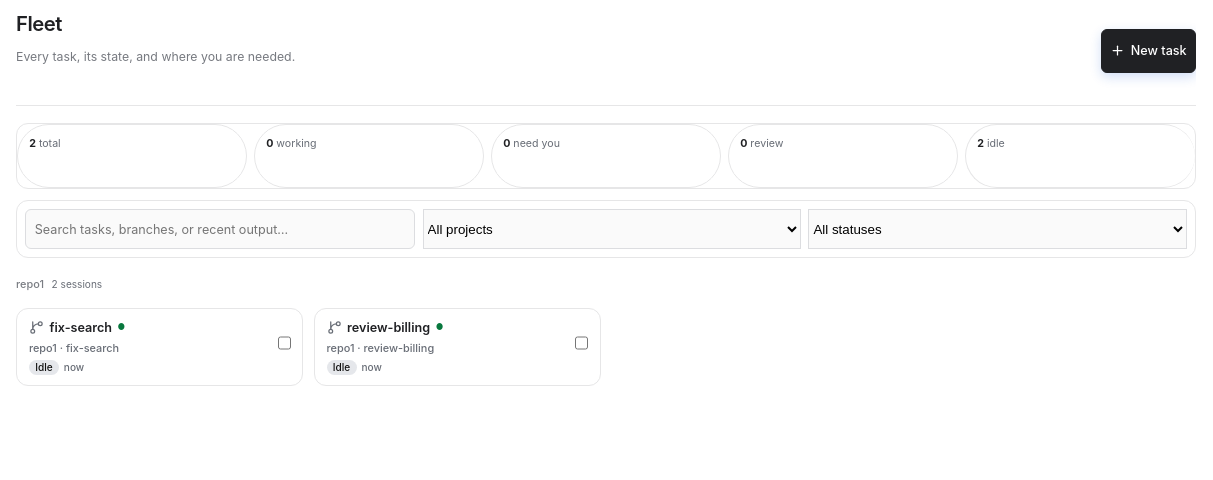
Test case: FleetGrid › clears bulk selection when filters change
Click the checkbox named "select fix-search" at (284, 343), box x1=278 y1=321 x2=291 y2=365
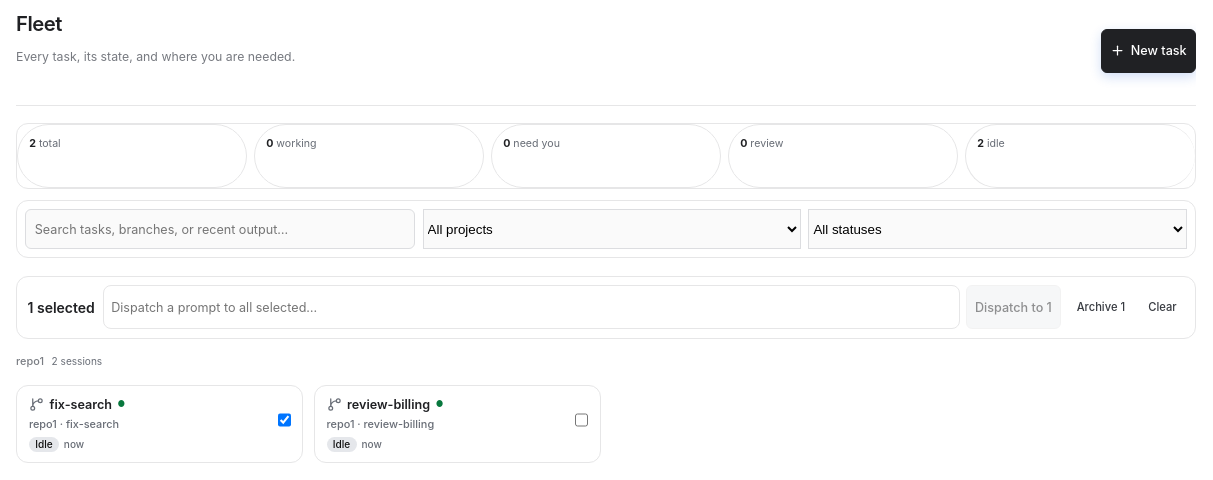
expect the element named "bulk actions" shows "1 selected": met, box x1=16 y1=276 x2=1196 y2=339
Type "billing" into the search field named "search fleet" at (220, 229), box x1=25 y1=209 x2=415 y2=249
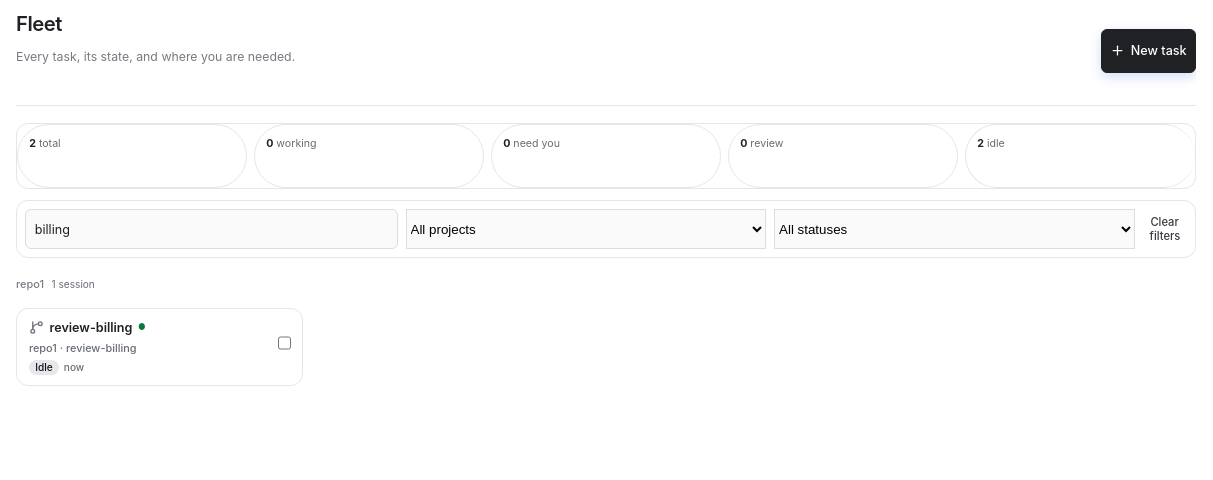
expect the button "fix-search" is gone: met
